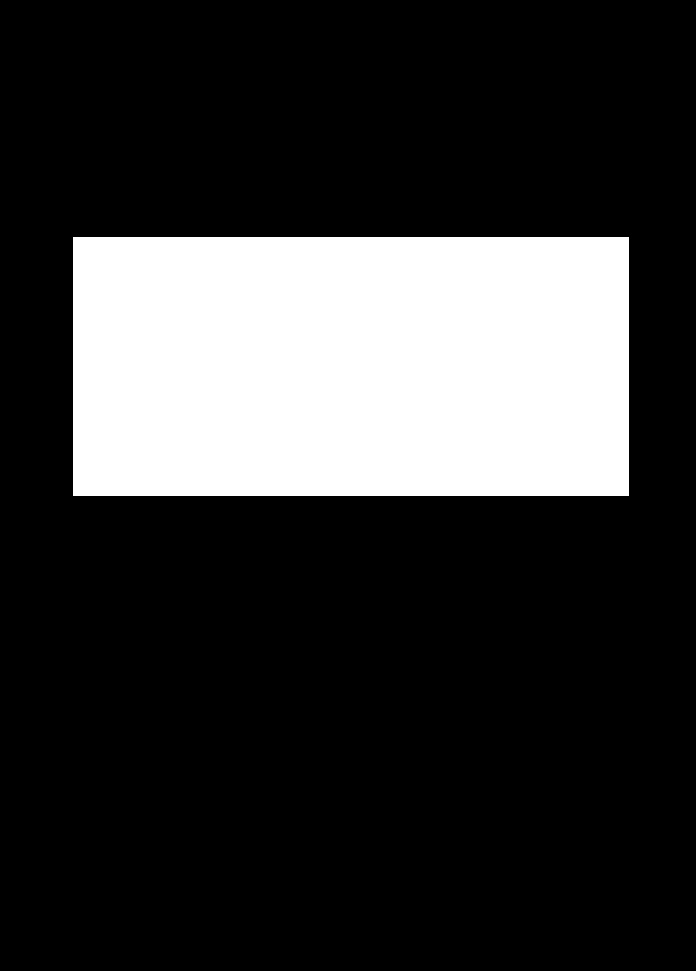table: (73, 237, 628, 495)
